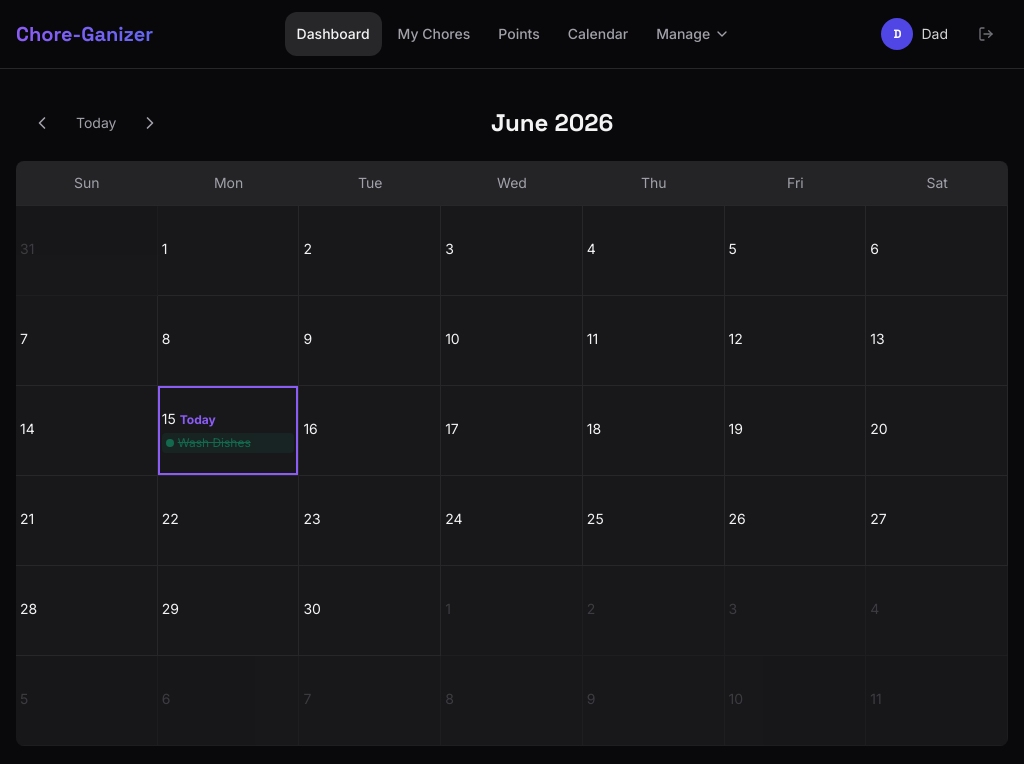
Test case: CalendarPage › renders a cancelled chore as Cancelled (not Pending) in the selected-date dialog
What coordinates should you click on to do the following:
click the button with aria-label "View chores for June 15, 2026"
I would click on:
 (229, 431)
Its box is 158,386 -> 299,476.
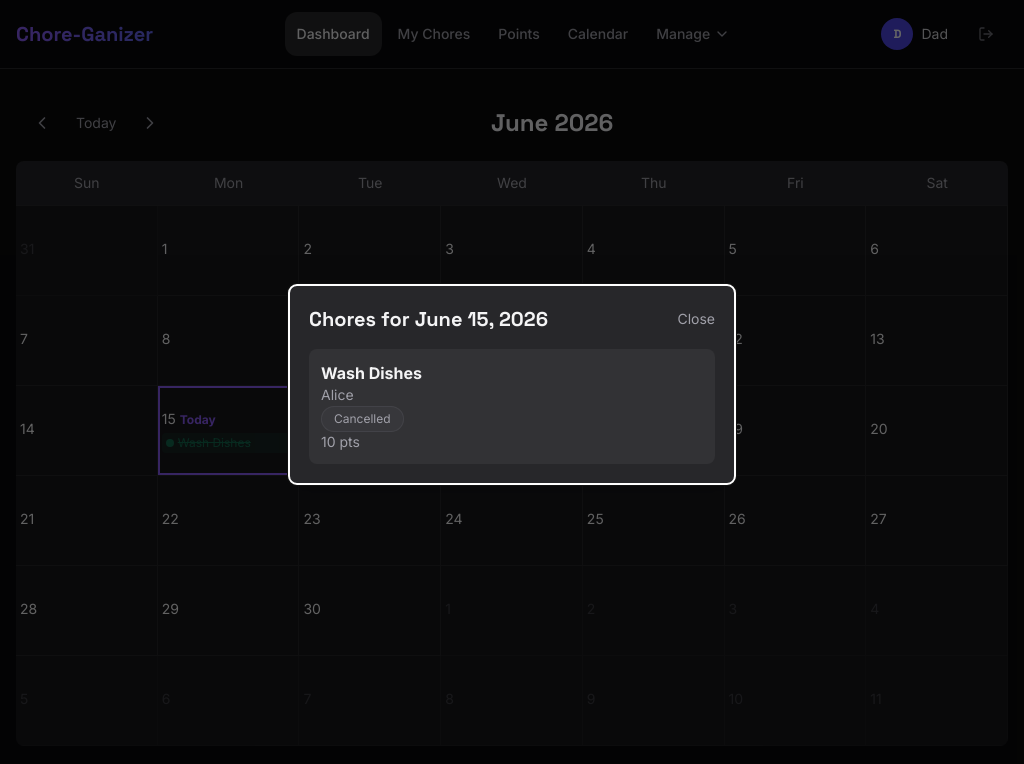
Expected: the text "Cancelled" is shown, 321,406 -> 404,432
